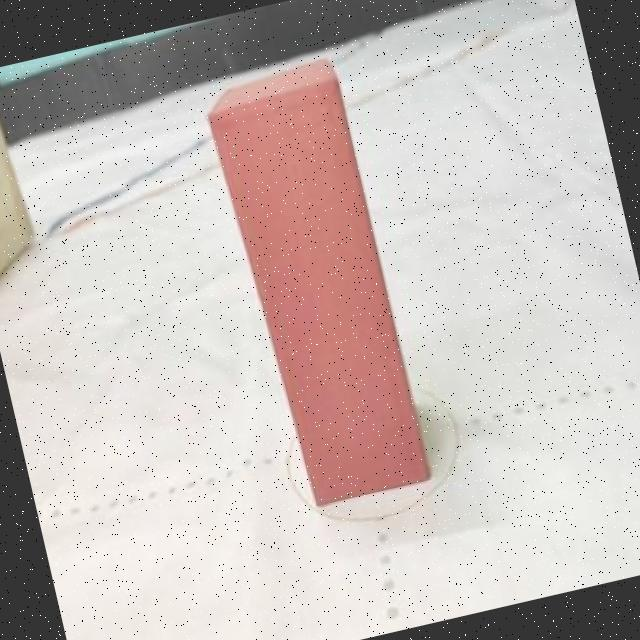redbox: (201, 51, 430, 513)
